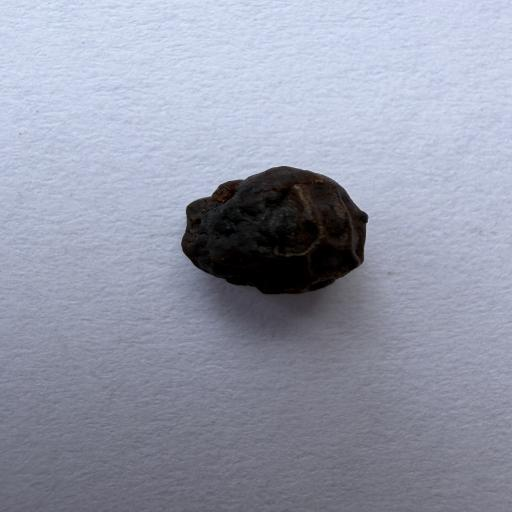Black_pepper: (166, 149, 401, 330)
